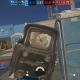Friend_label: (6, 40, 9, 44)
